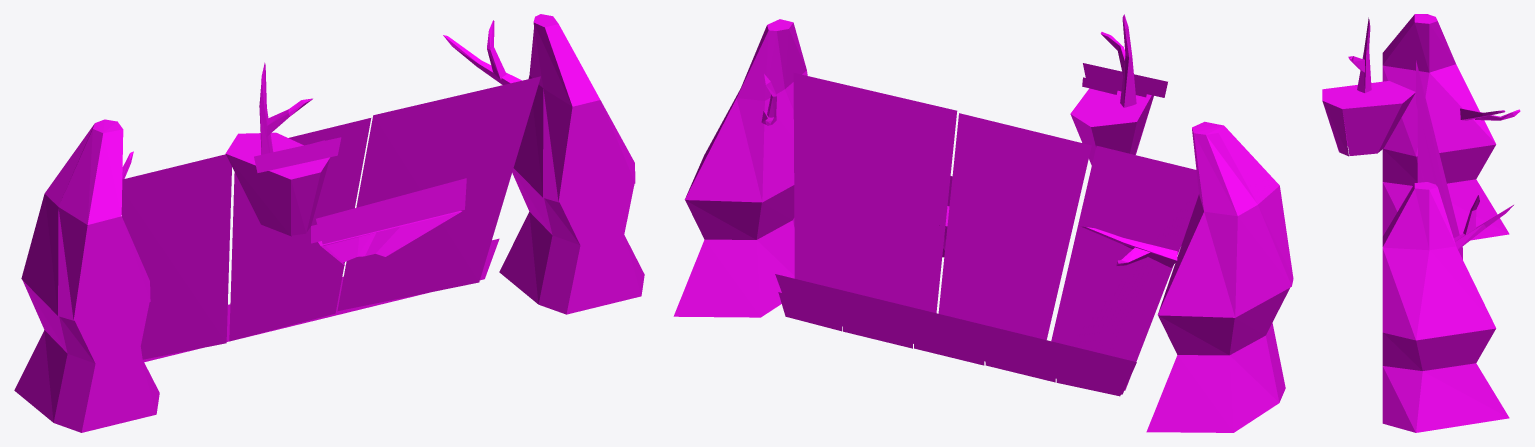
The model's file is waterfalllev2.obj.
The picture shows the model from 3 angles, left to right: view 1: azimuth 30°, elevation 25°; view 2: azimuth 150°, elevation 25°; view 3: azimuth 270°, elevation 25°; orthographic projection. The views are drawn at different scales.
Parts seen in each view (by area): view 1: waterfalllev2_back, waterfalllev2_front; view 2: waterfalllev2_front, waterfalllev2_back; view 3: waterfalllev2_back, waterfalllev2_front.
Boxes of the visible parts, x1,y1,x2,y2 form: waterfalllev2_back: (14,14,644,432); waterfalllev2_front: (121,76,540,362); waterfalllev2_front: (775,63,1198,396); waterfalllev2_back: (673,14,1293,432); waterfalllev2_back: (1322,14,1520,432); waterfalllev2_front: (1416,60,1462,259).
Bounding box in the file's own units: 12.86 × 6.86 × 4.74.
